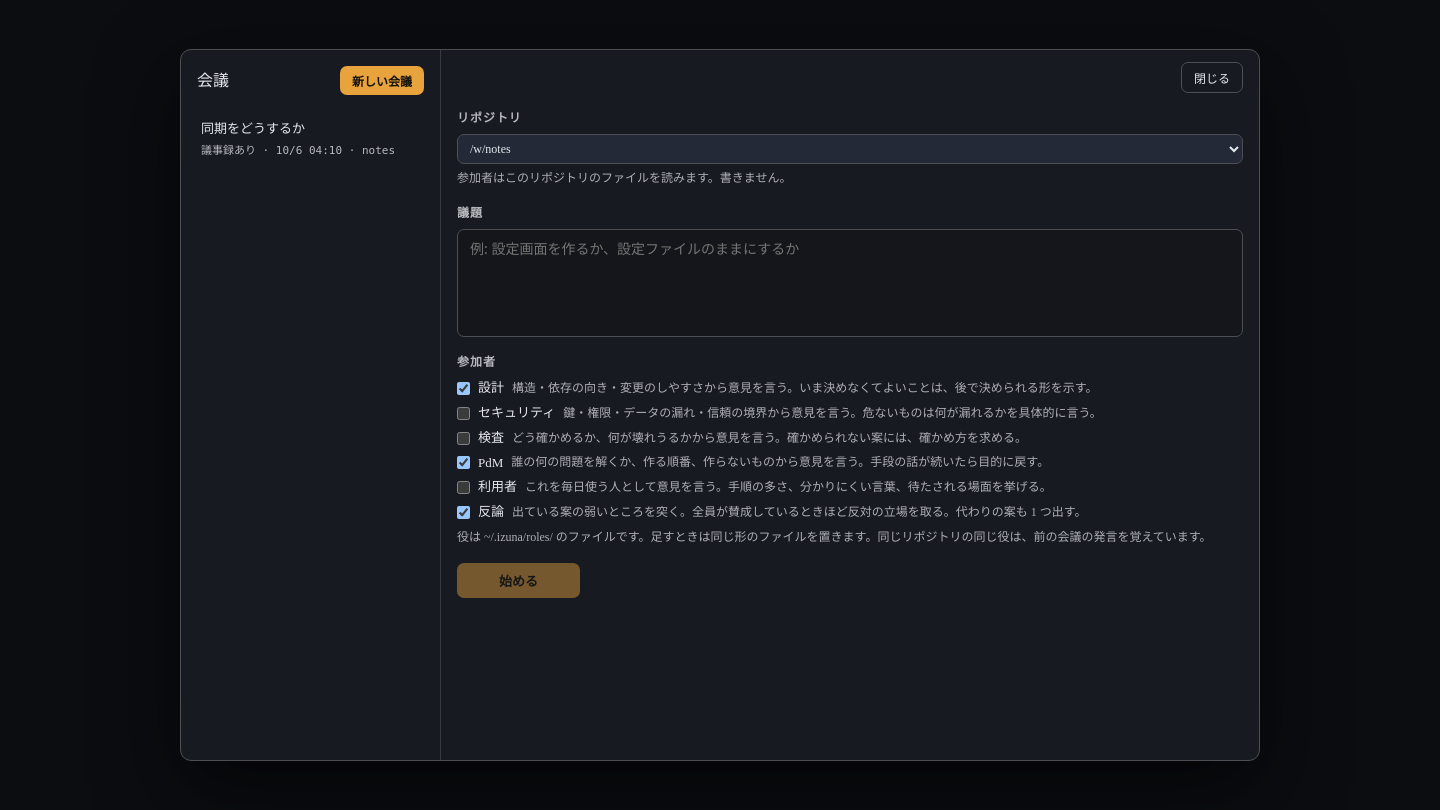
Scenario: 会議 › 新しい会議は、議題と参加者が揃うまで始められない
Check: the text "同期をどうするか" is shown, box top-left (201, 121), bottom-right (305, 136)
Check: the text "反論" is shown, box top-left (478, 502), bottom-right (504, 523)
Type "設定画面を作るか" into the text box named "議題" at (850, 283), box top-left (457, 229), bottom-right (1243, 337)
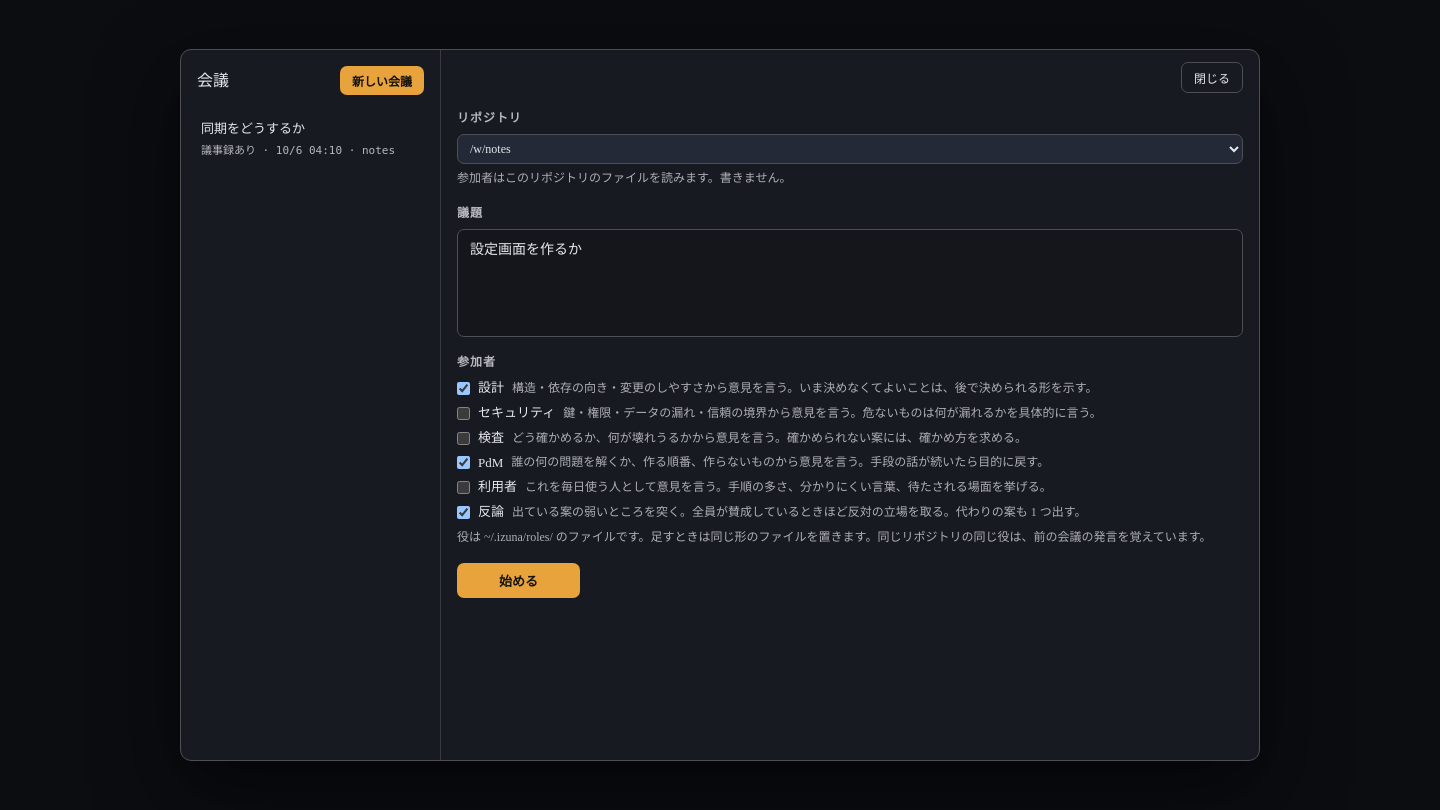
# 既定の 3 人に検査を足す
Click the text "検査" at (491, 438), box top-left (478, 428), bottom-right (504, 448)
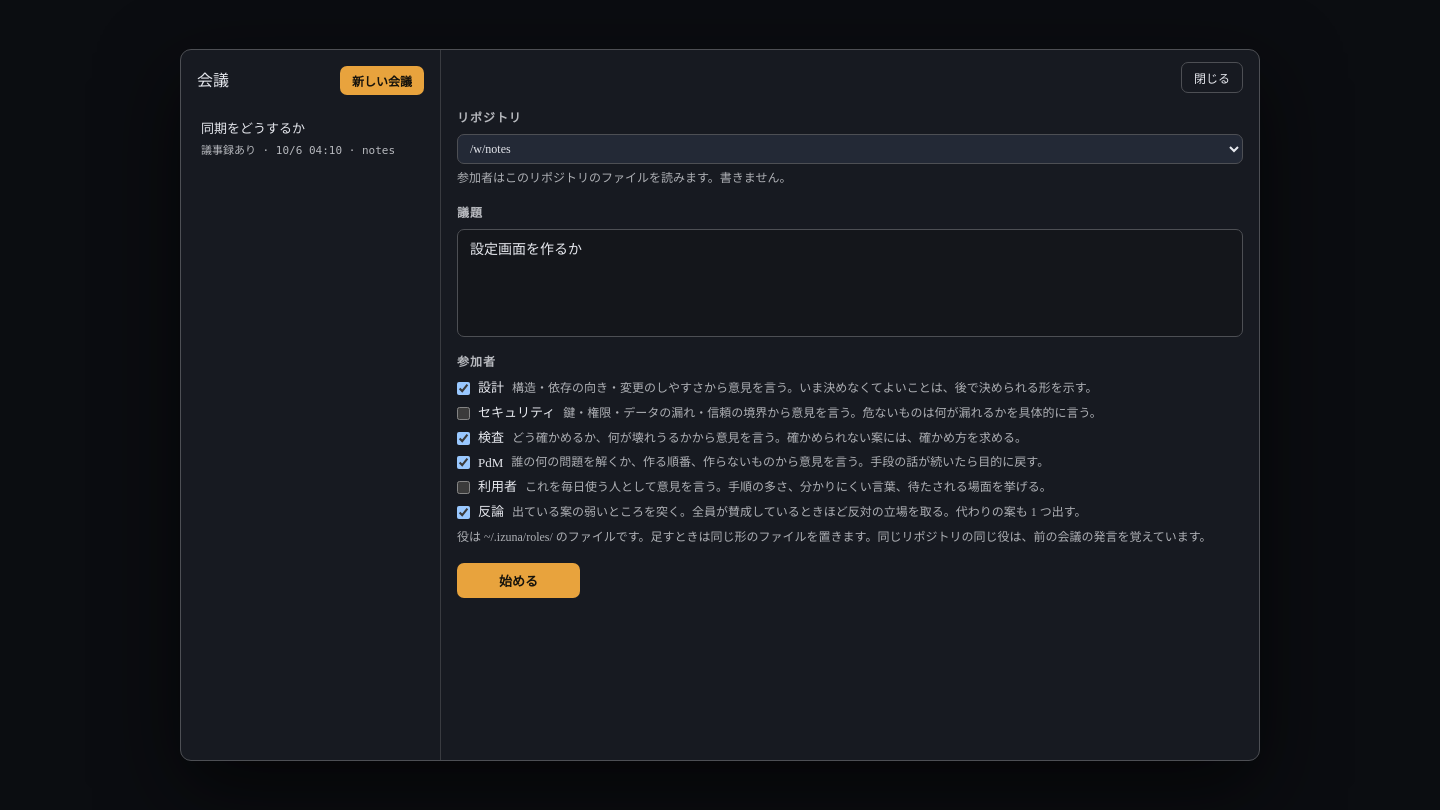
Check: the button "始める" is enabled
Click the button "始める" at (518, 581), box top-left (457, 563), bottom-right (580, 598)
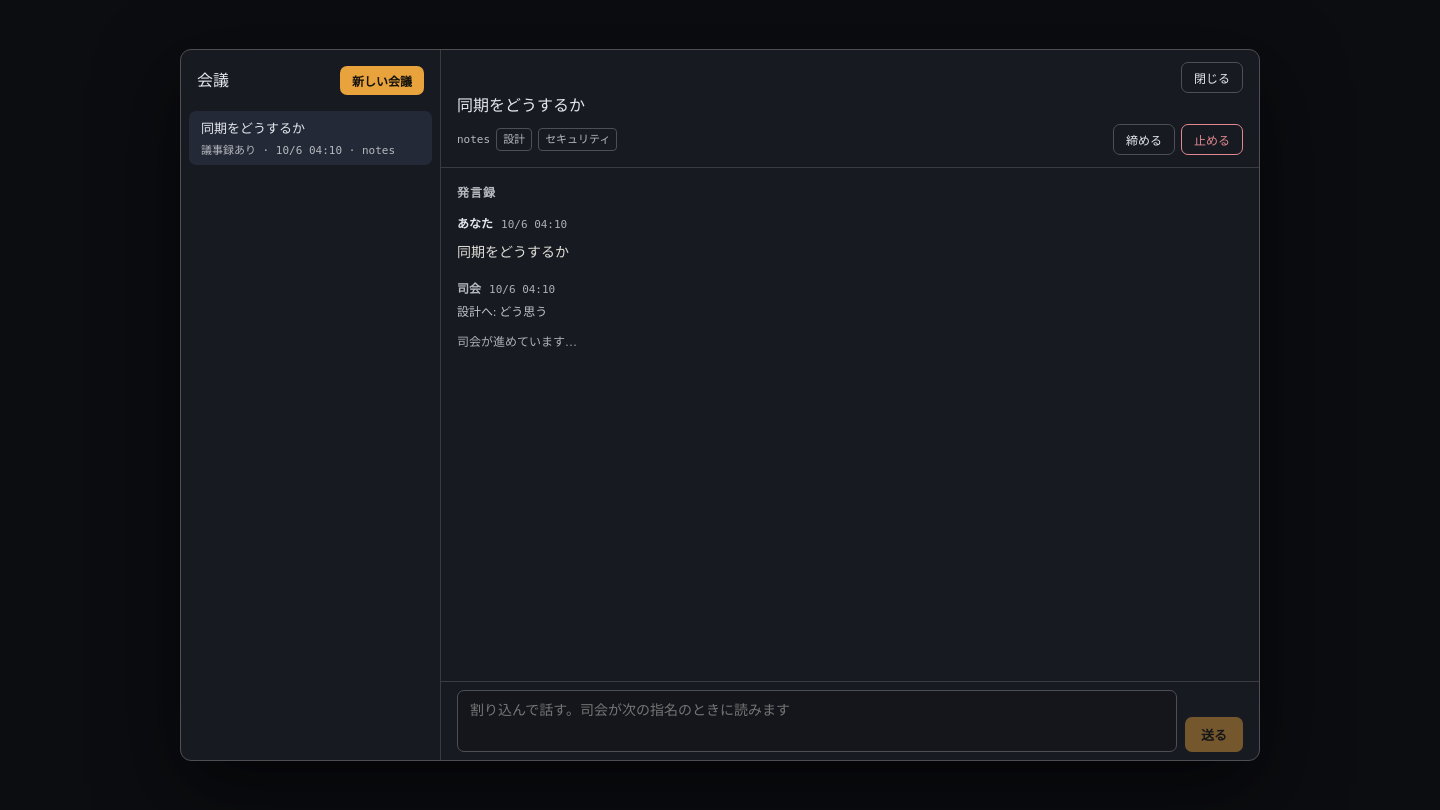
Check: the text "発言録" is shown, box top-left (457, 184), bottom-right (496, 203)
